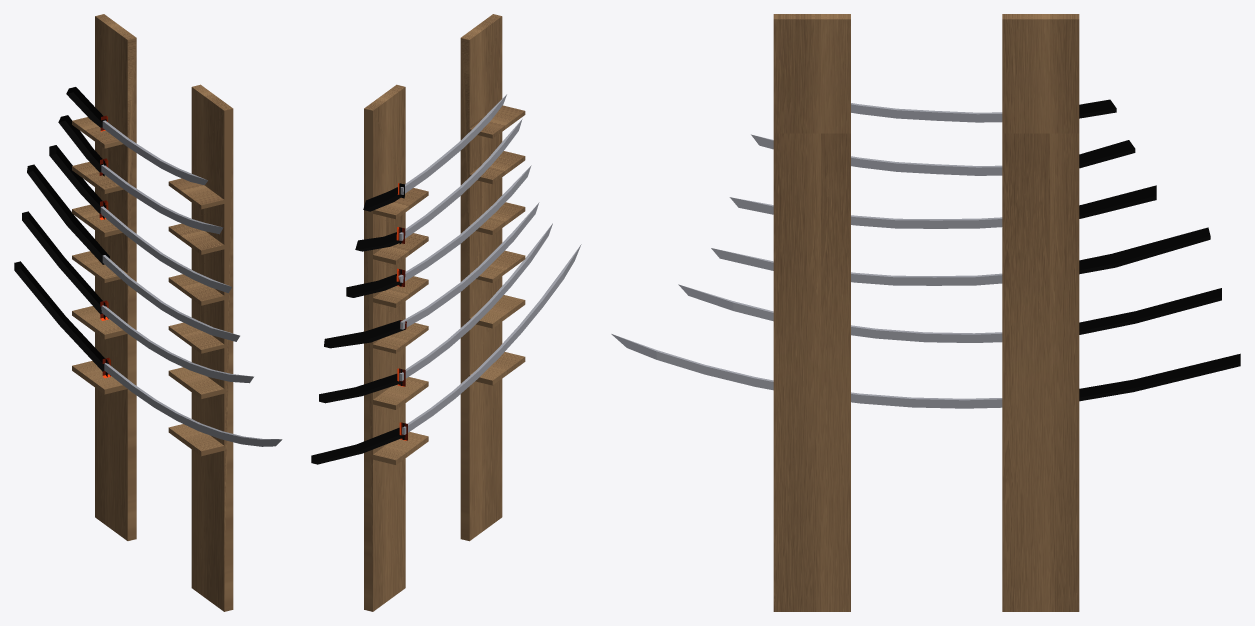
File: japan_katana.glb
3 renders of one model, left to right at view 1: azimuth 30°, elevation 25°; view 2: azimuth 150°, elevation 25°; view 3: azimuth 270°, elevation 25°, orthographic. The views are drawn at different scales.
Parts seen in each view (by area): view 1: Katana.001; view 2: Katana.001; view 3: Katana.001.
Part boxes in pixels (x1,y1,x2,y2): Katana.001: [14, 14, 282, 611]; Katana.001: [311, 14, 581, 611]; Katana.001: [611, 14, 1240, 611].
Size of the model in its own units: 0.1341 by 2 by 1.93.
Materials: 2 (2 with a texture image).
